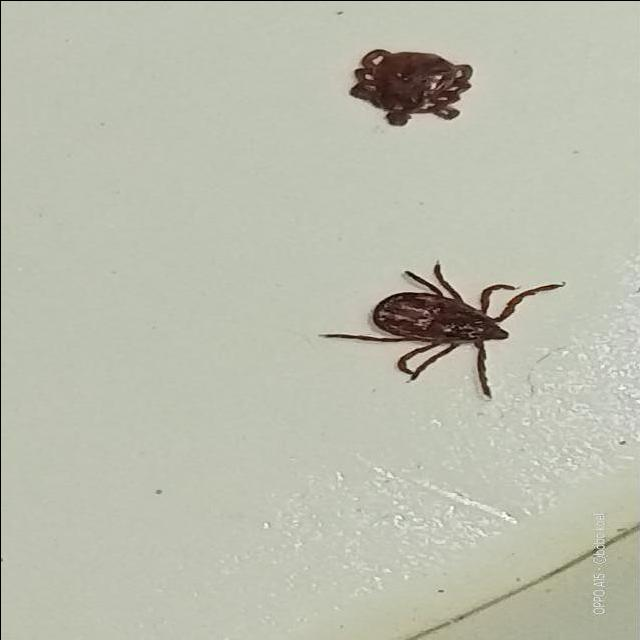Rhipicephalus Sanguineus-M: (318, 262, 567, 400), (349, 48, 474, 126)
